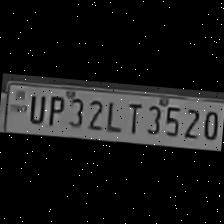0: (199, 105, 222, 140)
2: (84, 94, 106, 131), (180, 104, 201, 140)
3: (64, 93, 86, 129), (142, 100, 162, 136)
5: (160, 101, 181, 137)
L: (102, 96, 124, 132)
P: (43, 91, 65, 127)
T: (122, 98, 145, 134)
U: (24, 90, 46, 124)
